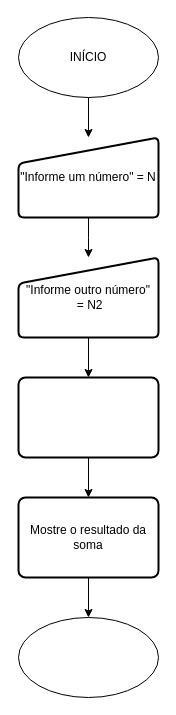
Some shapes in this 176 by 715 pixel diagram are drawn without their labels. Each missing label, with the centre of its shape:
"Some os dois números (N+N2)" goes at [88,417].
"TÉRMINO" goes at [88,657].
